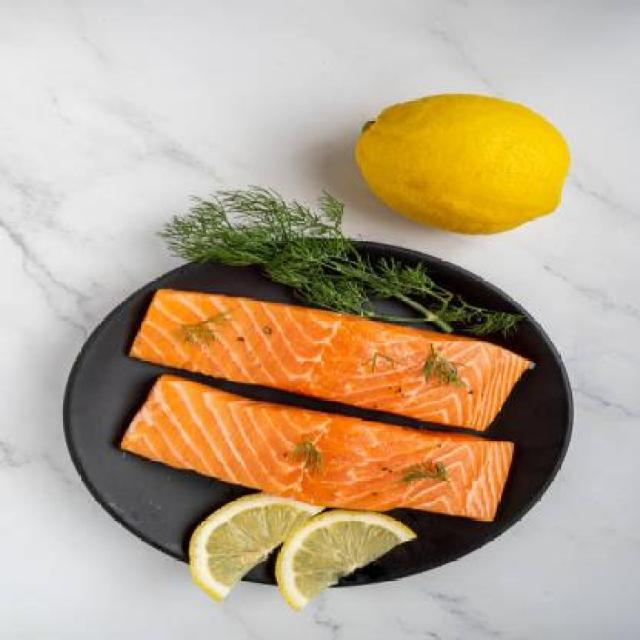salmon: (112, 364, 528, 528), (123, 270, 528, 436)
